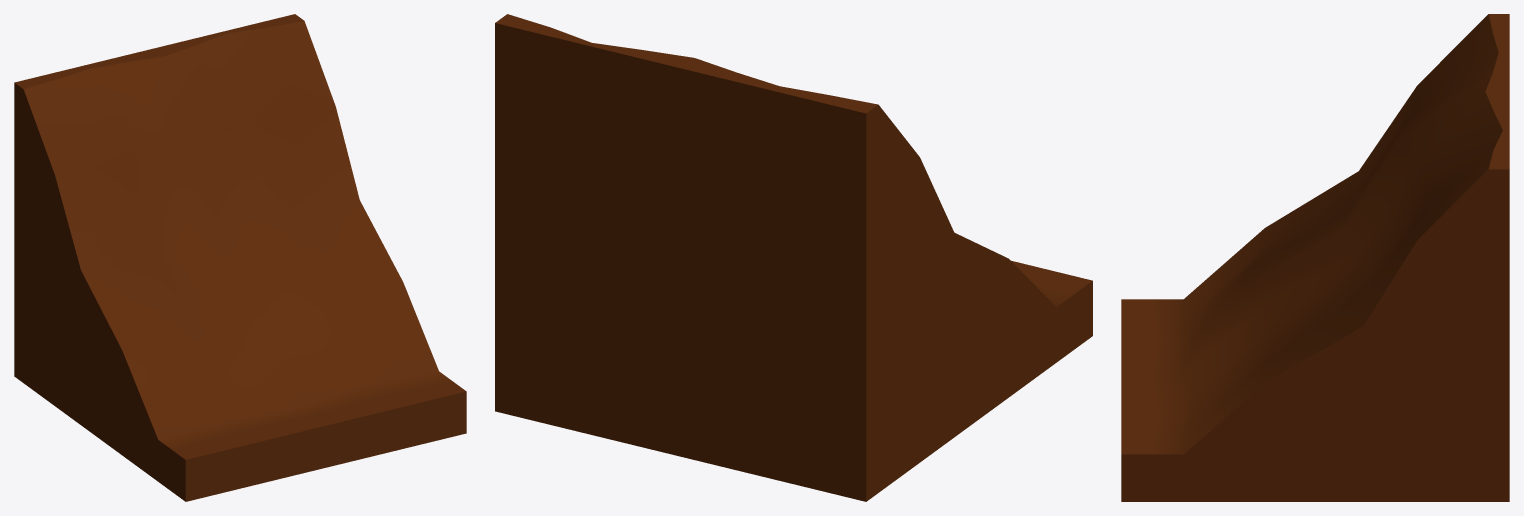
The model's file is mountain_base.fbx.
The picture shows the model from 3 angles, left to right: view 1: azimuth 30°, elevation 25°; view 2: azimuth 150°, elevation 25°; view 3: azimuth 270°, elevation 25°; orthographic projection. The views are drawn at different scales.
Parts seen in each view (by area): view 1: mount_base.001; view 2: mount_base.001; view 3: mount_base.001.
Part boxes in pixels (box(x1,y1,x2,y2)): mount_base.001: box(14, 14, 466, 501); mount_base.001: box(495, 14, 1092, 501); mount_base.001: box(1121, 14, 1509, 501).
Bounding box in the file's own units: 200 × 200 × 211.
